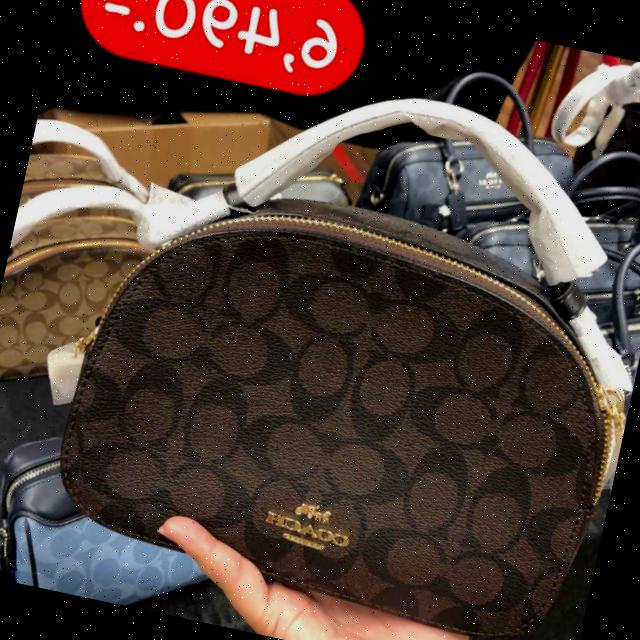Handbag: (19, 145, 640, 640)
